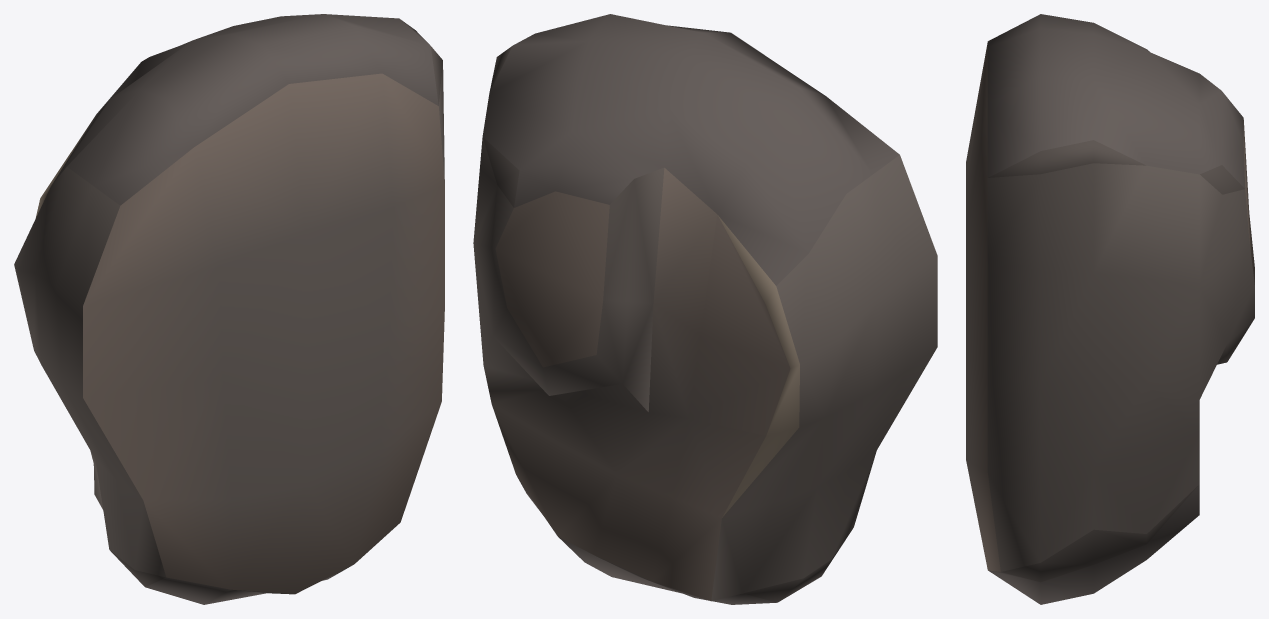
Rendered from RockSmall.007.glb.
3 renders of one model, left to right at view 1: azimuth 30°, elevation 25°; view 2: azimuth 150°, elevation 25°; view 3: azimuth 270°, elevation 25°, orthographic.
Parts seen in each view (by area): view 1: RockSmall.007; view 2: RockSmall.007; view 3: RockSmall.007.
Part boxes in pixels (box(x1,y1,x2,y2)): RockSmall.007: box(14, 14, 444, 604); RockSmall.007: box(473, 14, 937, 604); RockSmall.007: box(966, 14, 1254, 604).
Bounding box in the file's own units: 132 × 179 × 85.99.
